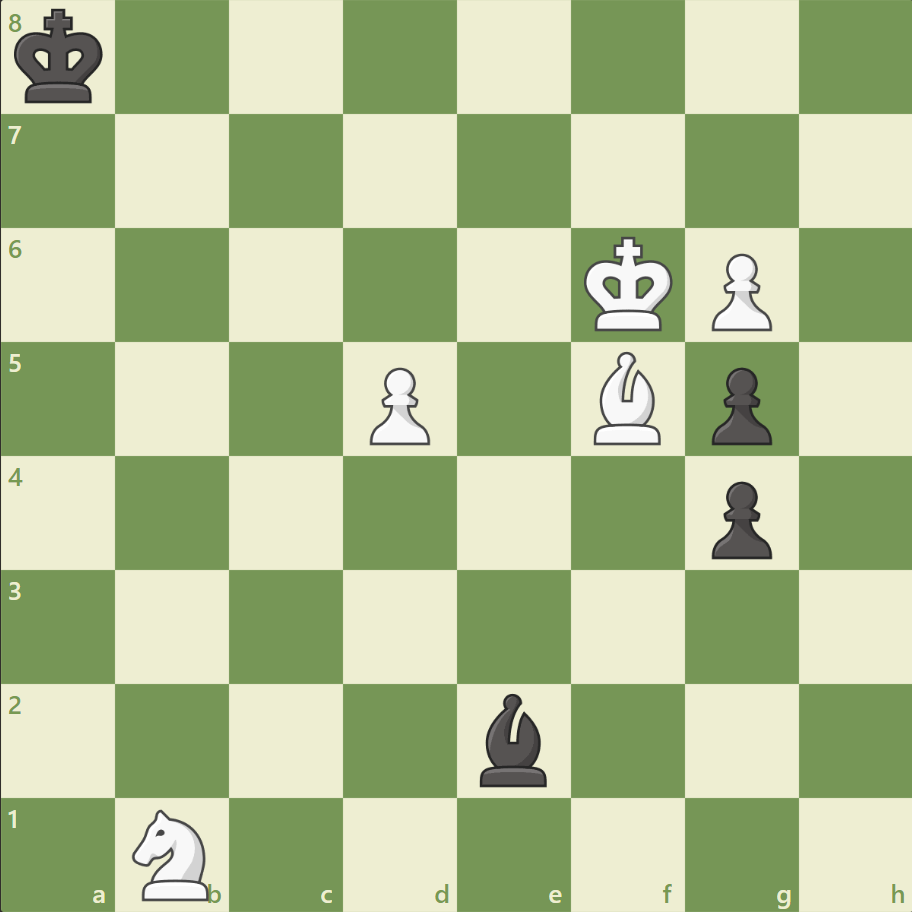B: (585, 347, 669, 449)
K: (579, 231, 679, 339)
N: (124, 802, 222, 904)
P: (701, 246, 776, 337), (361, 359, 435, 450)
b: (471, 687, 555, 790)
k: (11, 4, 111, 112)
p: (701, 359, 776, 450), (701, 473, 776, 564)
